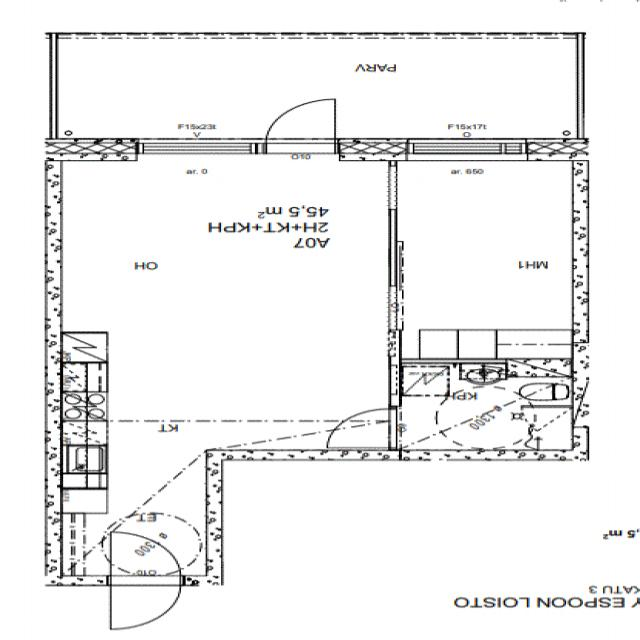door: (266, 94, 335, 154), (111, 532, 180, 586), (111, 576, 180, 629), (326, 408, 396, 447)
